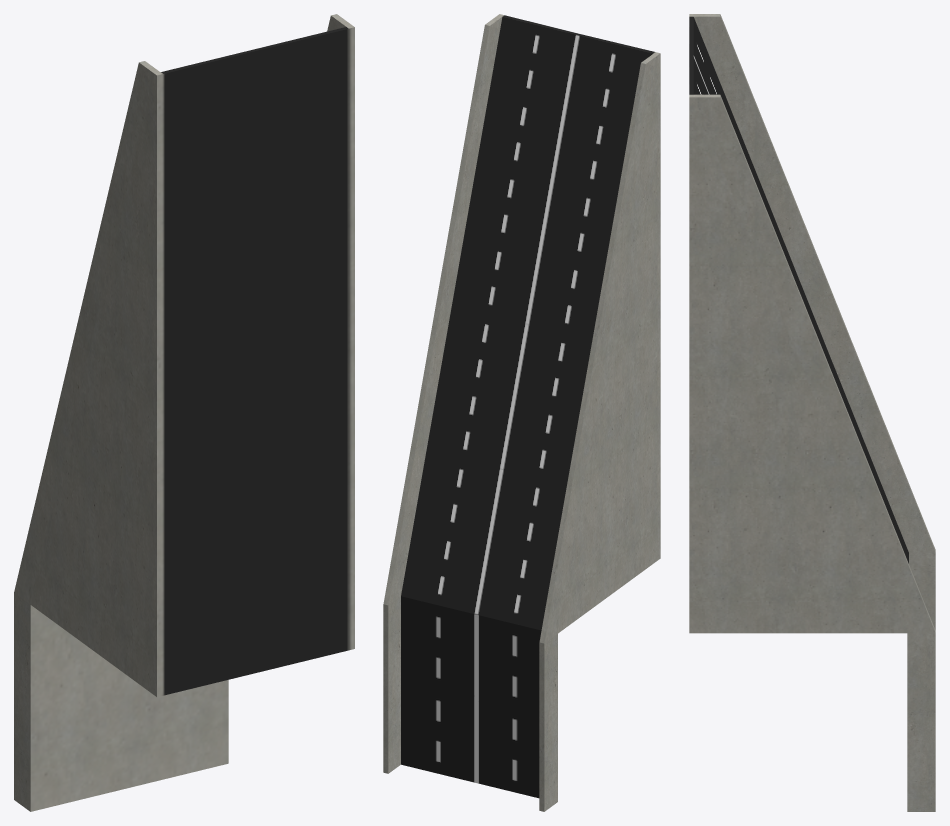
The model's file is bridge-ramp.obj.
3 renders of one model, left to right at view 1: azimuth 30°, elevation 25°; view 2: azimuth 150°, elevation 25°; view 3: azimuth 270°, elevation 25°, orthographic. The views are drawn at different scales.
Visible parts, largest first — view 1: bridge-ramp_Plane.052; view 2: bridge-ramp_Plane.052; view 3: bridge-ramp_Plane.052.
Boxes of the visible parts, box(x1,y1,x2,y2) form: bridge-ramp_Plane.052: box(14, 14, 354, 811); bridge-ramp_Plane.052: box(383, 14, 660, 811); bridge-ramp_Plane.052: box(689, 14, 935, 811).
Size of the model in its own units: 8 by 32 by 10.
